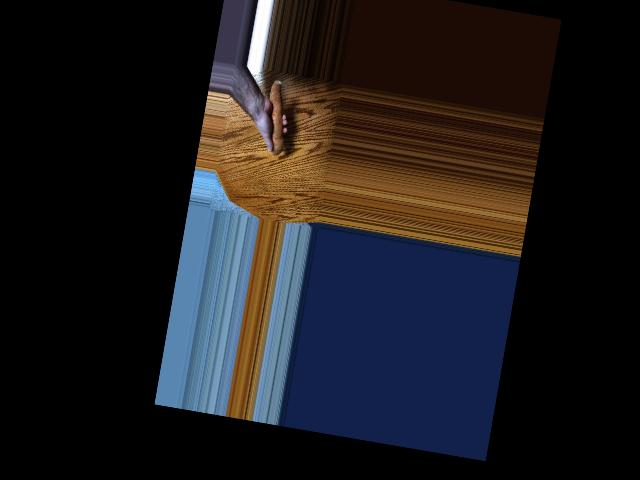sweet_potato: (256, 76, 295, 155)
